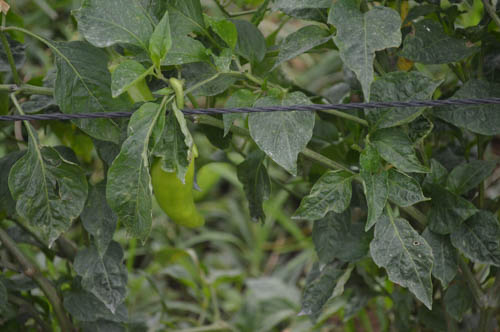ChiliPepper: (153, 146, 203, 227)
